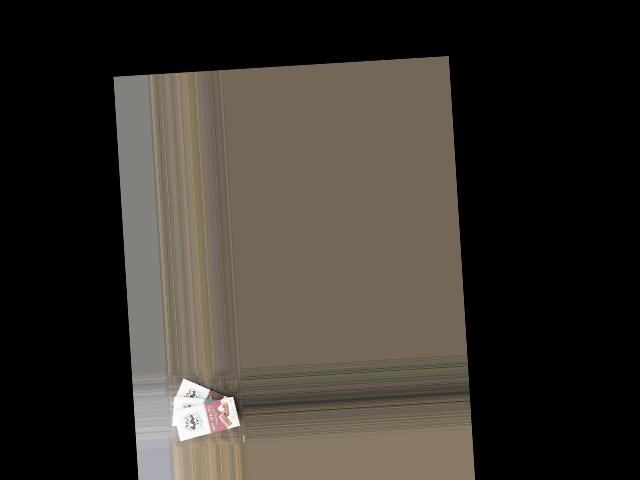chocolate: (169, 374, 239, 420)
